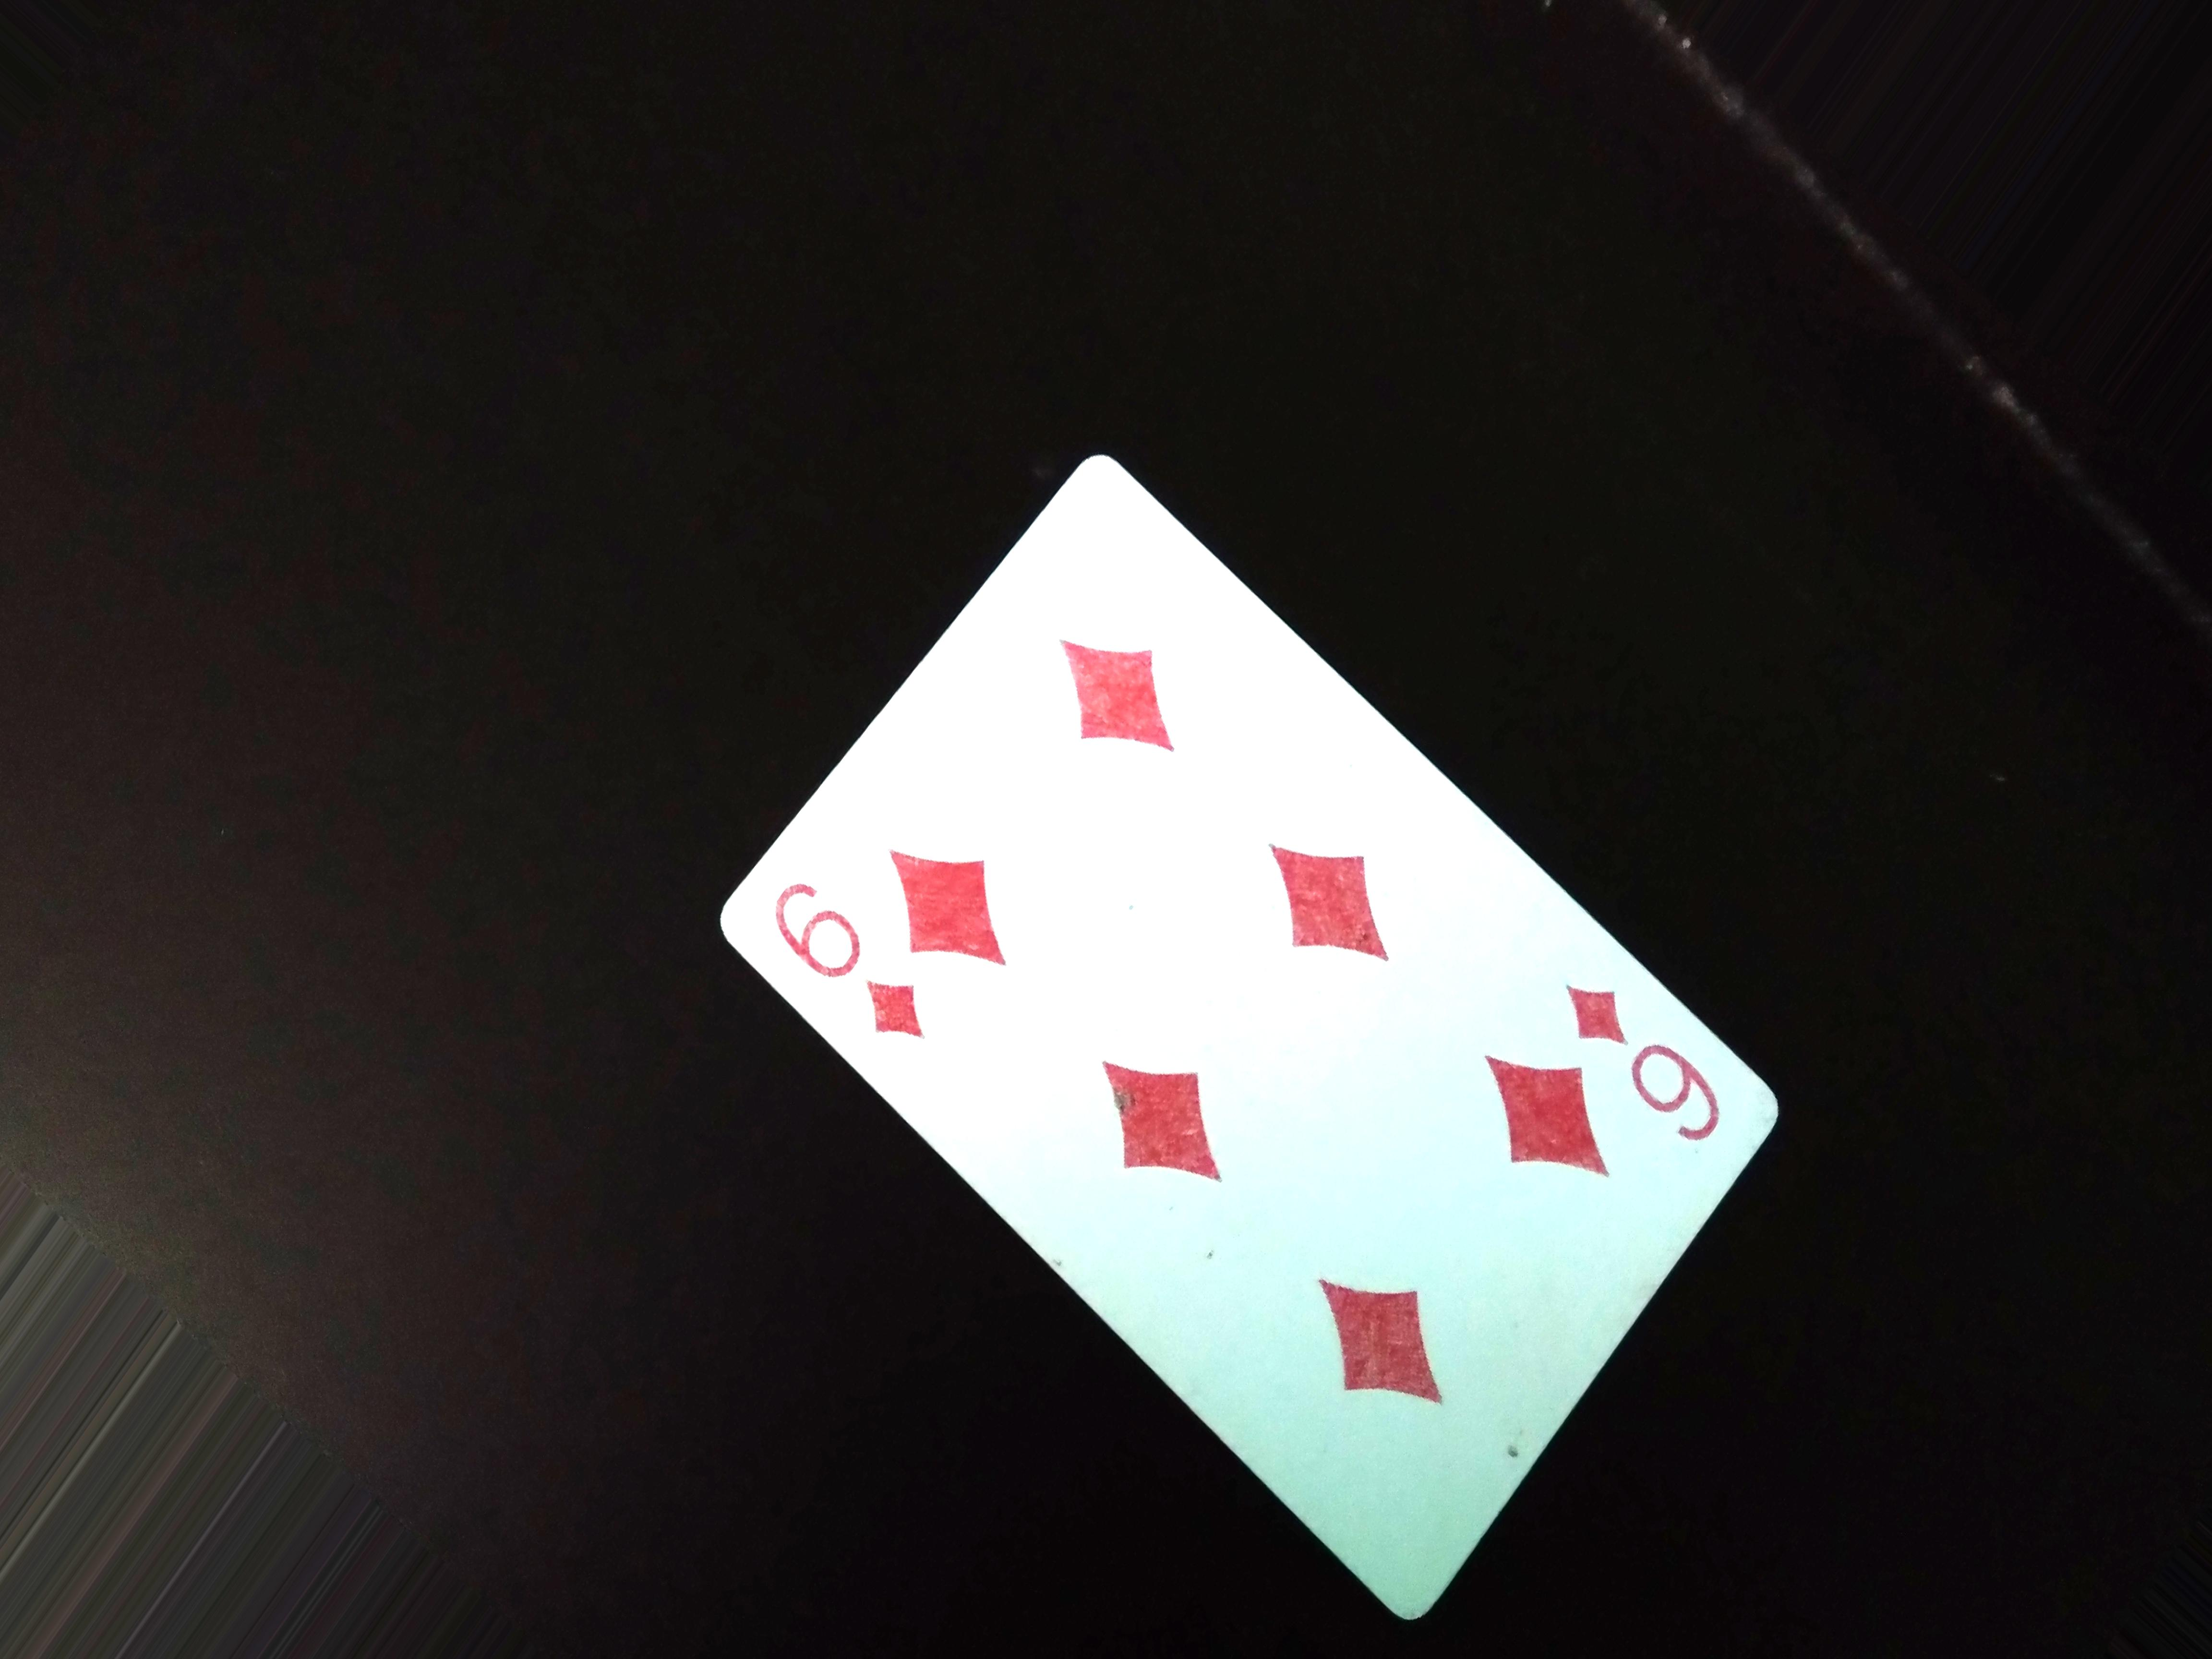6D: (756, 873, 949, 1060)
